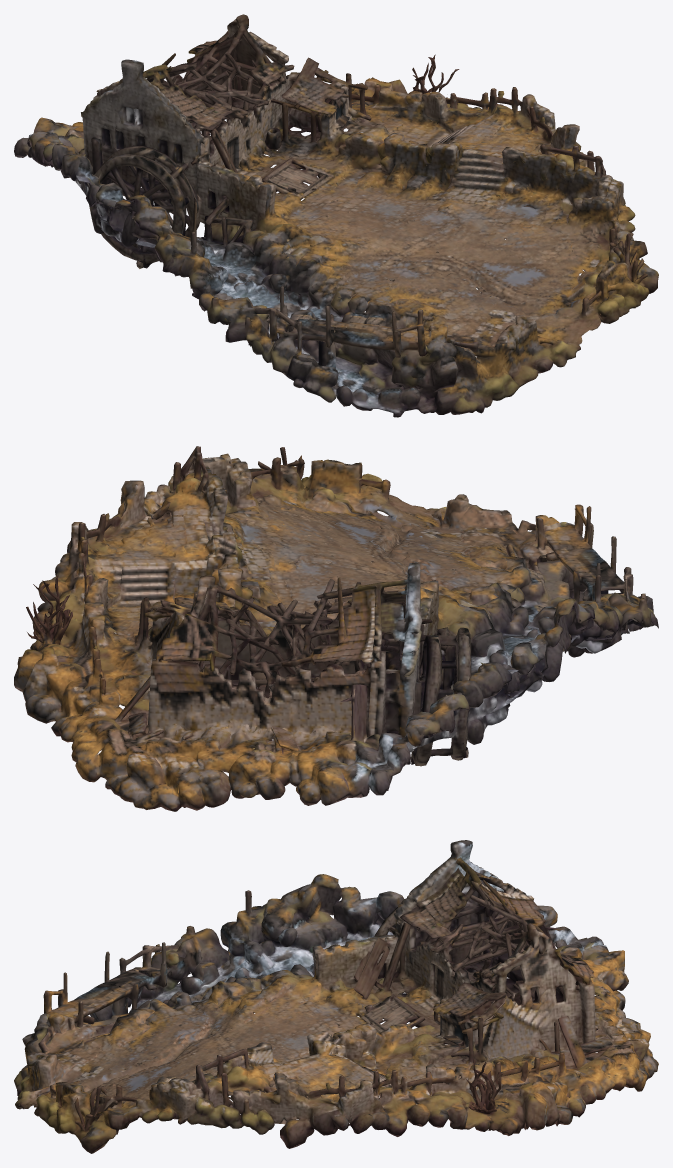
Rendered from source-geometry.glb.
The picture shows the model from 3 angles, top to bottom: view 1: azimuth 30°, elevation 25°; view 2: azimuth 150°, elevation 25°; view 3: azimuth 270°, elevation 25°; orthographic projection. The views are drawn at different scales.
Parts seen in each view (by area): view 1: ENV_OldMillBattlefield_1; view 2: ENV_OldMillBattlefield_1; view 3: ENV_OldMillBattlefield_1.
Boxes of the visible parts, <box> form: ENV_OldMillBattlefield_1: <box>14,14,658,417</box>; ENV_OldMillBattlefield_1: <box>14,446,658,811</box>; ENV_OldMillBattlefield_1: <box>14,840,658,1153</box>.
Size of the model in its own units: 25 by 11.41 by 32.97.
1 material, 1 textured.
